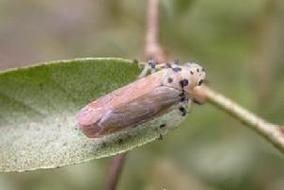Cicadellidae: (75, 60, 205, 140)
